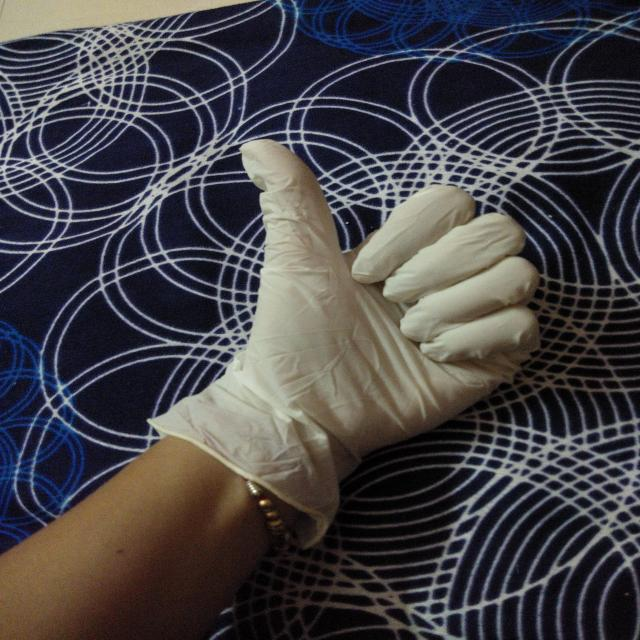glove: (142, 132, 549, 550)
